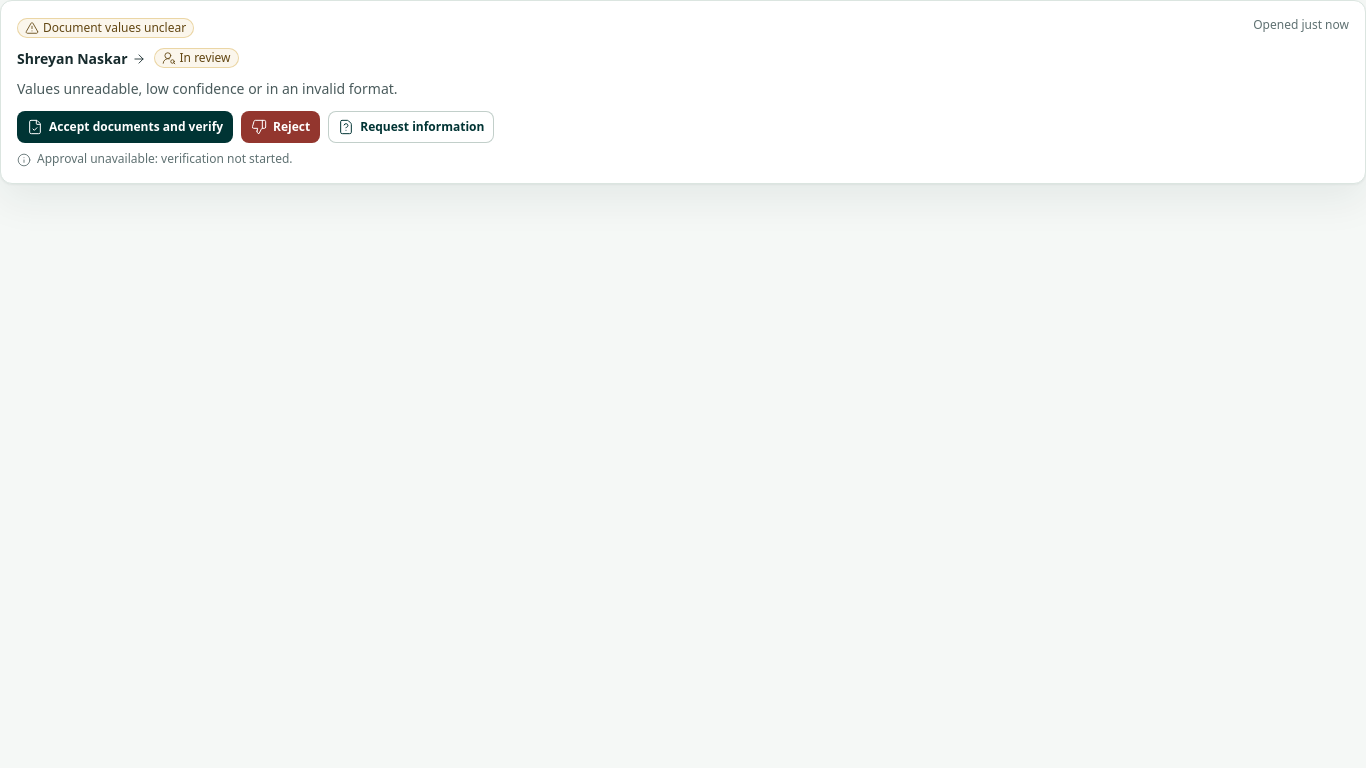
it: review task actions follow where the checks stand › documents not accepted yet (no check has run): "Accept documents and verify" first, no Approve, and why
The width and height of the screenshot is (1366, 768).
Expected: the text "Approval unavailable: verification not started." is shown, [37,151,293,167]
What coordinates should you click on to do the following:
click the button "Accept documents and verify"
I would click on:
 (125, 127)
Its box is [17,111,233,143].
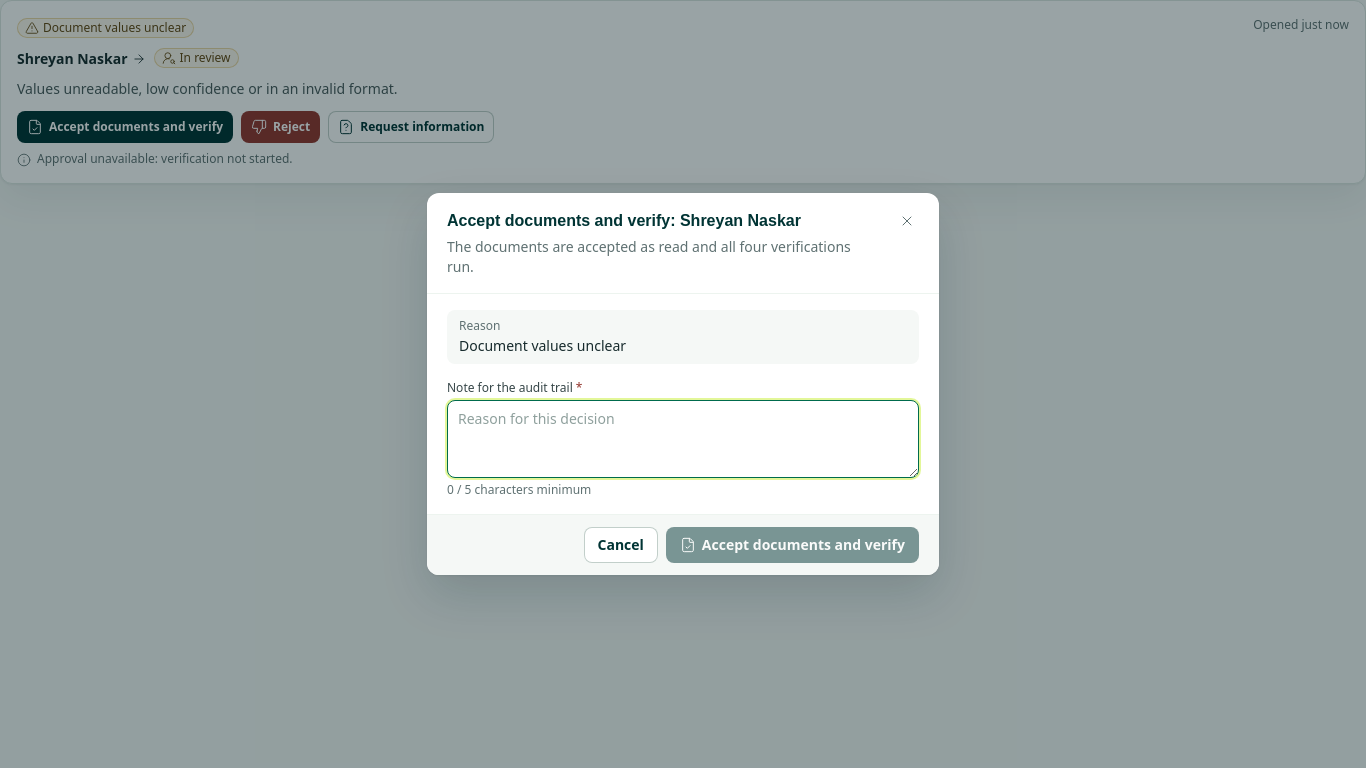
Expected: the text "The documents are accepted as read" is shown, [447,237,851,276]
